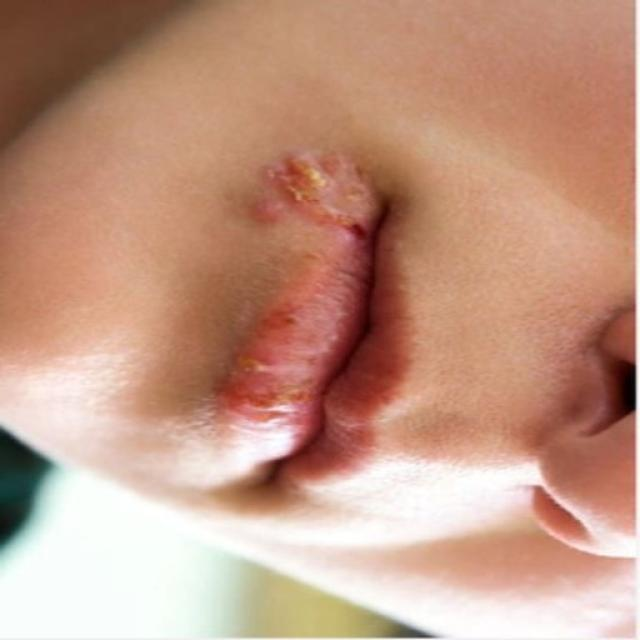cancer-detection: (220, 134, 390, 467)
processing_area: (203, 139, 437, 503)
